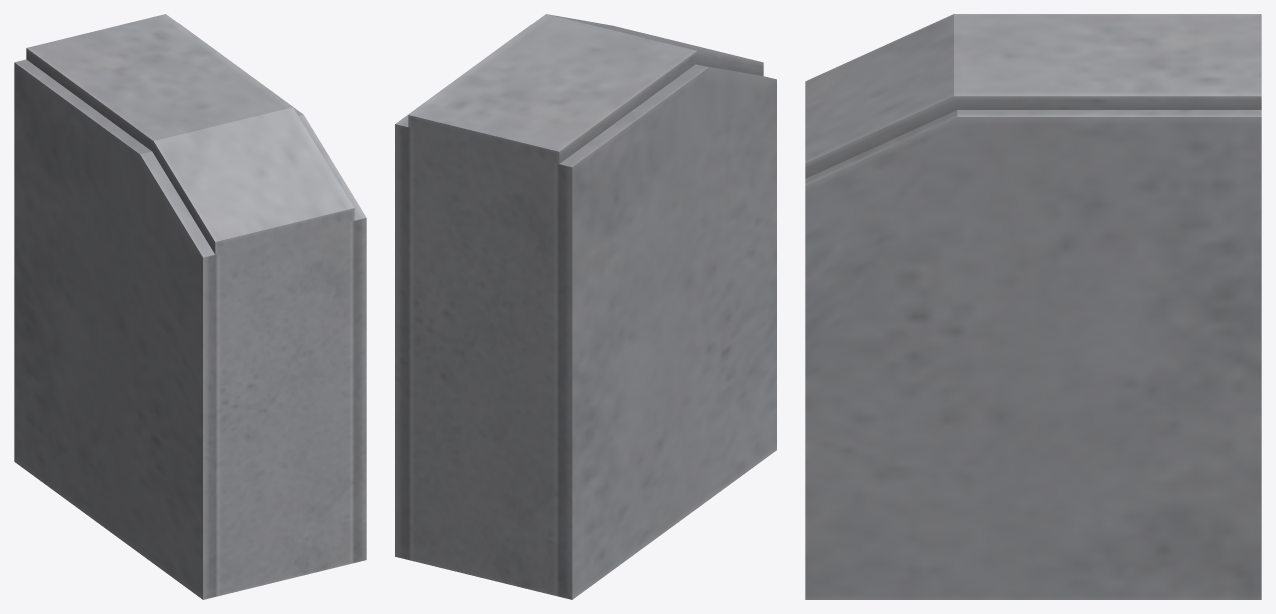
File: set_curb_stairs_start.fbx
3 views of the same model, side by side, from view 1: azimuth 30°, elevation 25°; view 2: azimuth 150°, elevation 25°; view 3: azimuth 270°, elevation 25° (orthographic). The views are drawn at different scales.
Parts seen in each view (by area): view 1: set_curb_stairs_start; view 2: set_curb_stairs_start; view 3: set_curb_stairs_start.
Boxes of the visible parts, bbox=[...] form: set_curb_stairs_start: bbox=[14, 14, 366, 599]; set_curb_stairs_start: bbox=[395, 14, 776, 599]; set_curb_stairs_start: bbox=[805, 14, 1261, 599].
Bounding box in the file's own units: 30 × 72 × 60.
